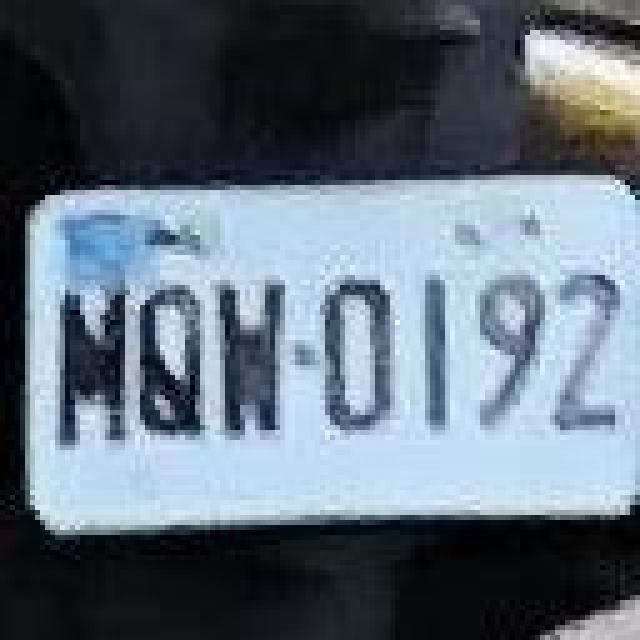W: (23, 170, 640, 536)
